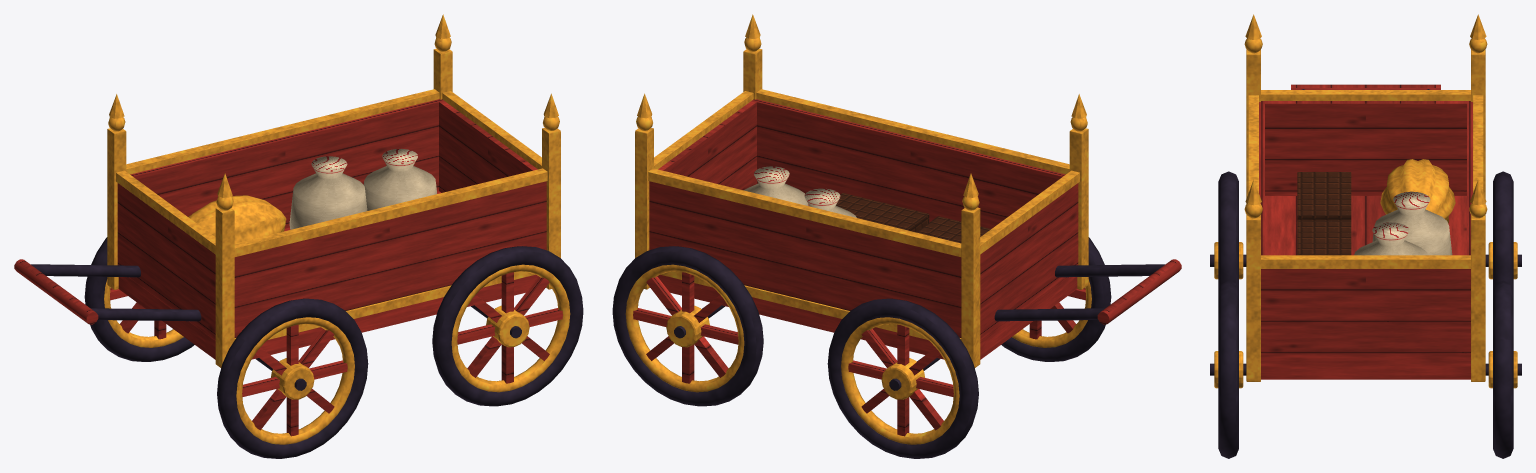
Rendered from CHO_Cart.fbx.
3 views of the same model, side by side, from view 1: azimuth 30°, elevation 25°; view 2: azimuth 150°, elevation 25°; view 3: azimuth 270°, elevation 25° (orthographic). The views are drawn at different scales.
Parts seen in each view (by area): view 1: CHO_Cart; view 2: CHO_Cart; view 3: CHO_Cart.
Boxes of the visible parts, left/top/right/bottom form: CHO_Cart: left=14, top=14, right=583, bottom=458; CHO_Cart: left=612, top=14, right=1181, bottom=458; CHO_Cart: left=1210, top=14, right=1521, bottom=458.
Size of the model in its own units: 2.68 by 1.59 by 1.5.
